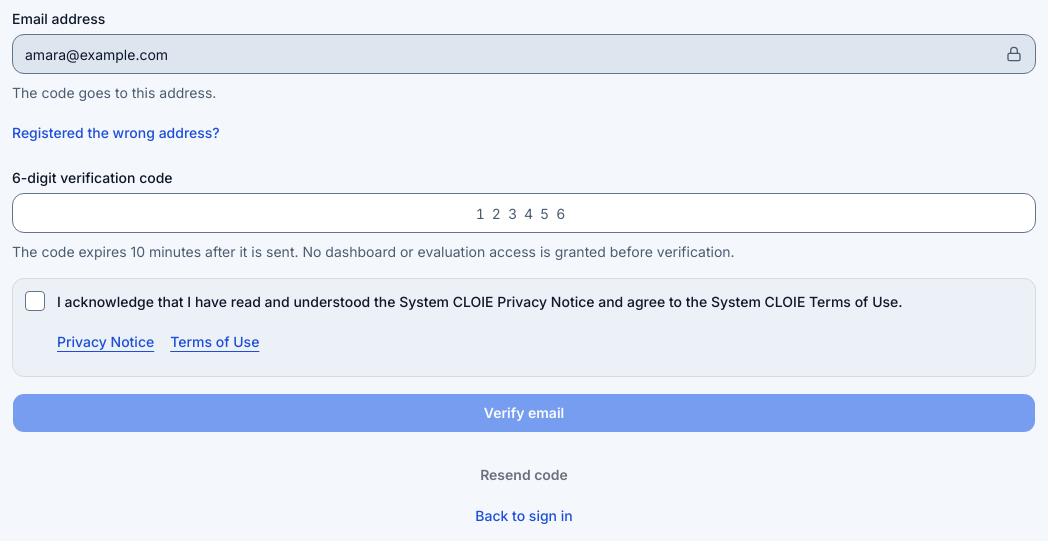
Test case: VerifyEmailForm › asks for the acknowledgement when the server has no valid ticket
This screenshot has width=1048, height=541.
Expected: the button "Verify email" is disabled, [12, 393, 1036, 433]
Expected: the button "Resend code" is disabled, [463, 453, 585, 497]
Click the 1st checkbox at (35, 301), box [25, 291, 45, 311]
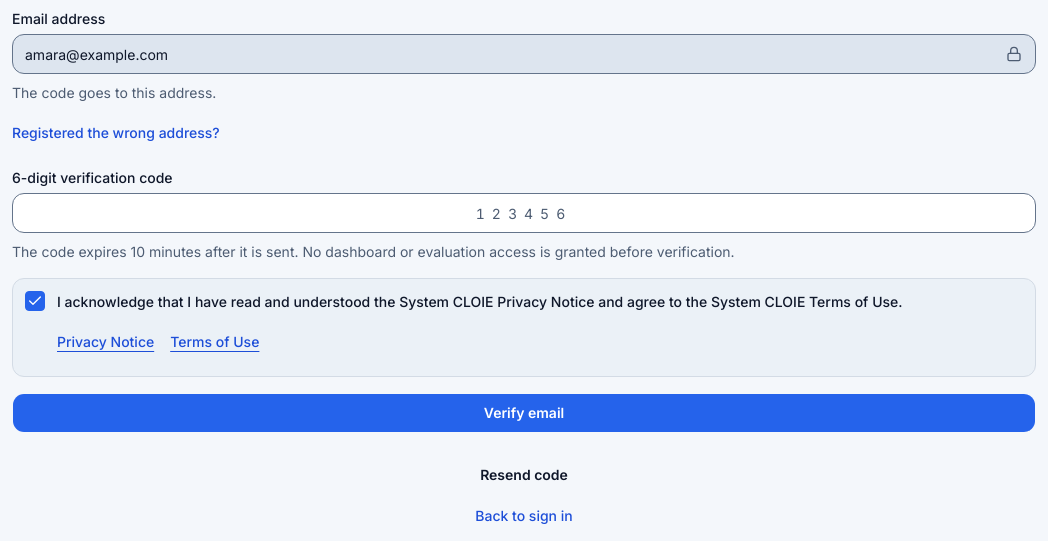
Now the button "Verify email" is enabled, box [12, 393, 1036, 433]
Now the button "Resend code" is enabled, box [463, 453, 585, 497]
